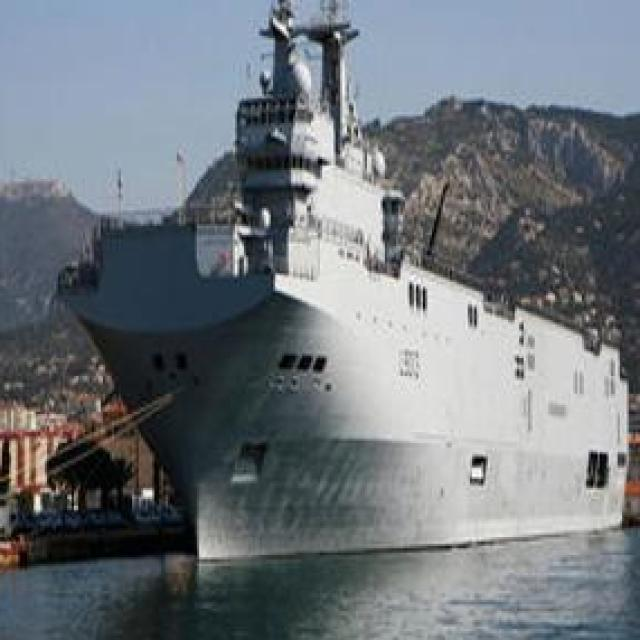navalvessels: (83, 62, 640, 558)
